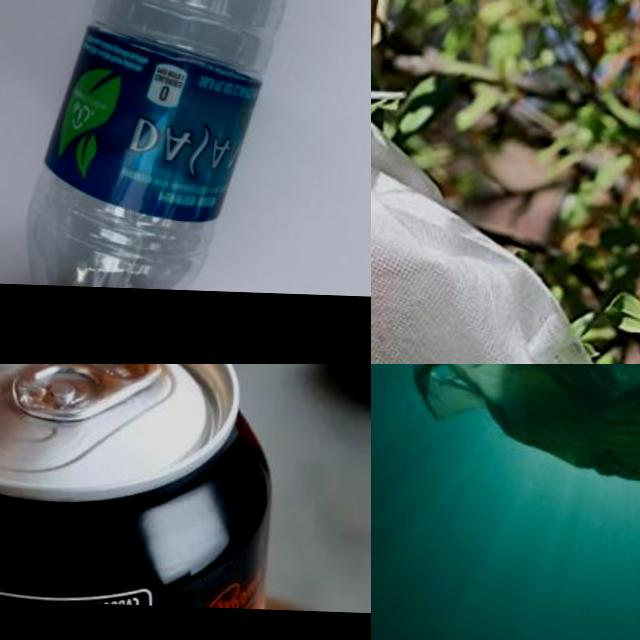aba de lata: (3, 364, 168, 422)
garrafa plástica: (22, 0, 305, 294)
lata: (0, 364, 279, 609)
sacola plástica: (371, 0, 640, 364), (405, 364, 640, 506)
